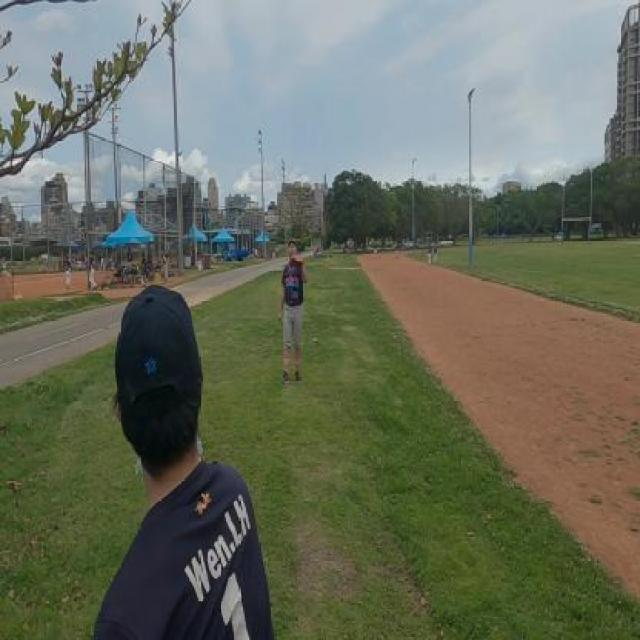baseball: (304, 180, 310, 192)
